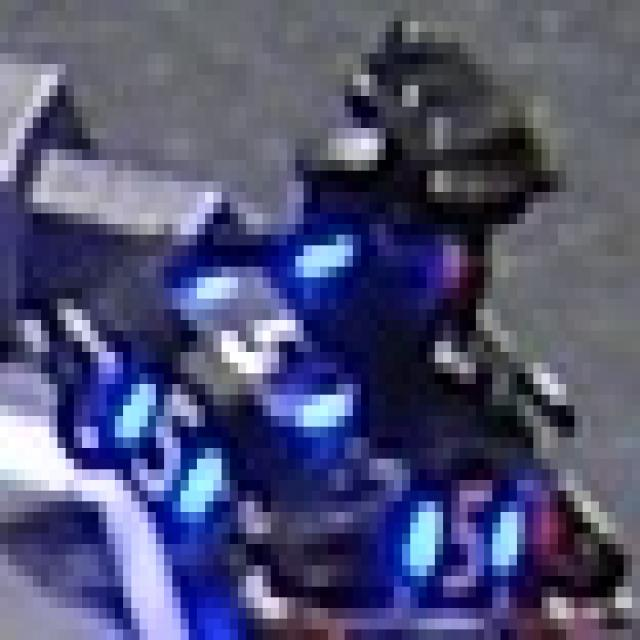B5: (106, 373, 222, 512), (402, 469, 517, 587)
